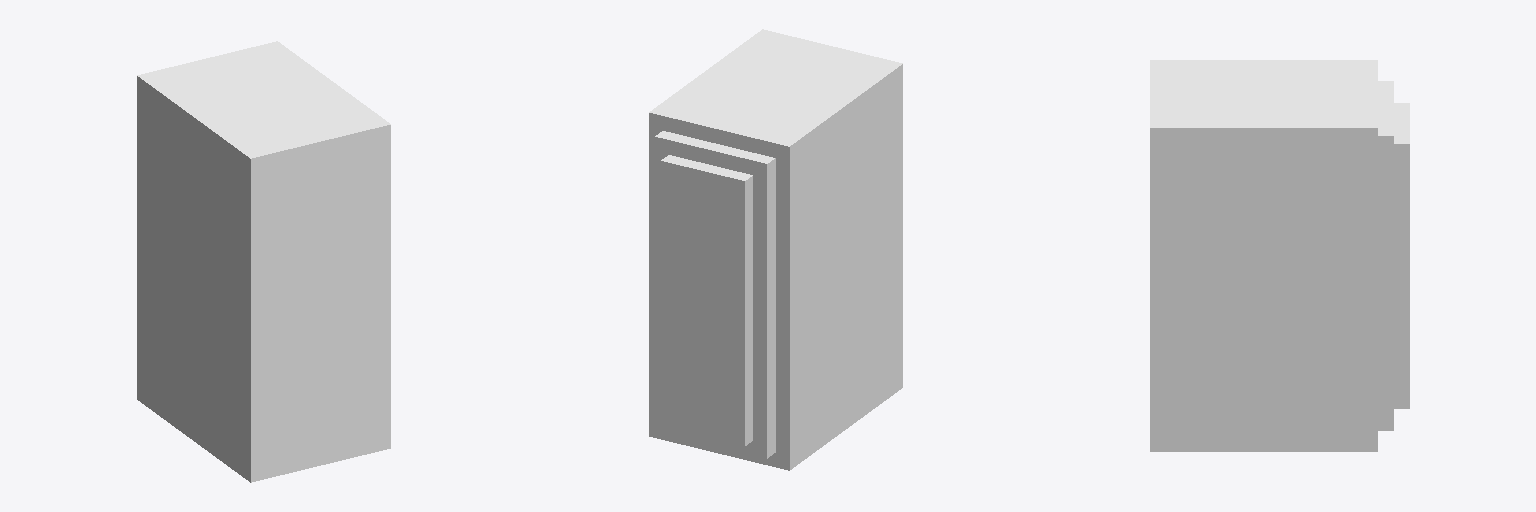
Rendered from parts-0-Tower.obj.
3 views of the same model, side by side, from view 1: azimuth 30°, elevation 25°; view 2: azimuth 150°, elevation 25°; view 3: azimuth 270°, elevation 25° (orthographic).
Parts seen in each view (by area): view 1: Tower; view 2: Tower; view 3: Tower.
Part boxes in pixels (x1,y1,x2,y2): Tower: (137, 41, 390, 482); Tower: (649, 29, 902, 470); Tower: (1150, 60, 1409, 451).
Bounding box in the file's own units: 1 × 2.2 × 1.6.